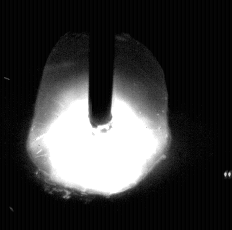arame: (89, 0, 114, 128)
poca: (25, 0, 172, 230)
